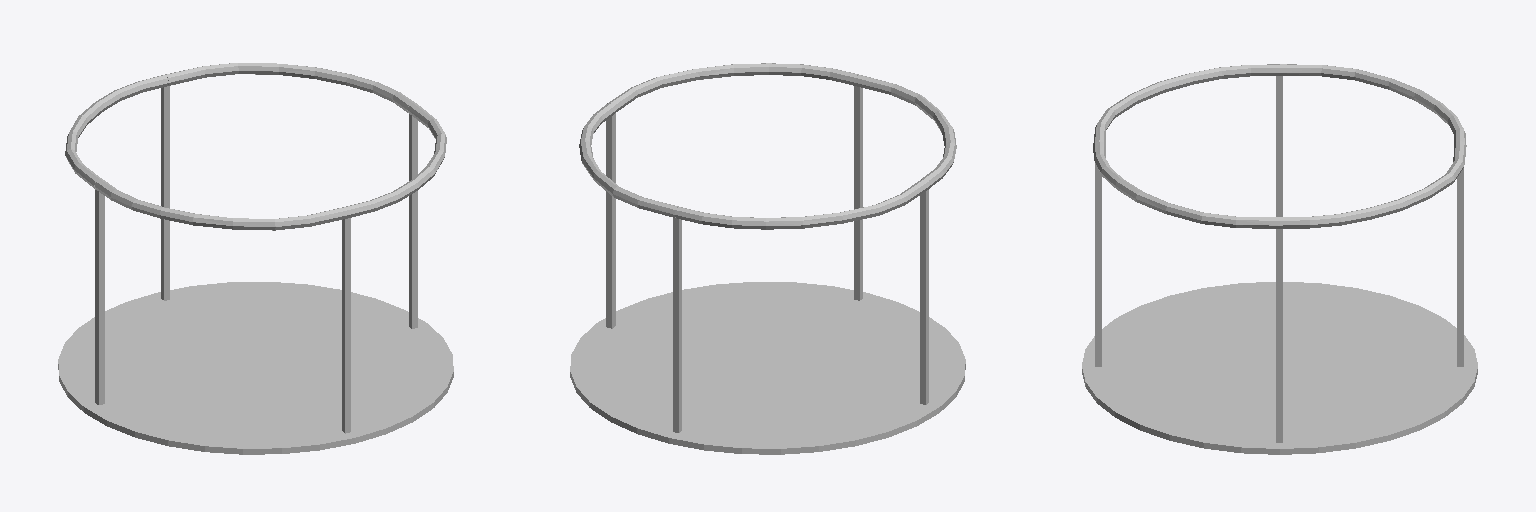
Rendered from Look-Platform.obj.
3 renders of one model, left to right at view 1: azimuth 30°, elevation 25°; view 2: azimuth 150°, elevation 25°; view 3: azimuth 270°, elevation 25°, orthographic.
Parts seen in each view (by area): view 1: Look-Platform2; view 2: Look-Platform2; view 3: Look-Platform2.
Boxes of the visible parts, <box> form: Look-Platform2: <box>58,63,453,454</box>; Look-Platform2: <box>570,63,965,454</box>; Look-Platform2: <box>1082,64,1477,454</box>.
Size of the model in its own units: 2.2 by 1.41 by 2.2.